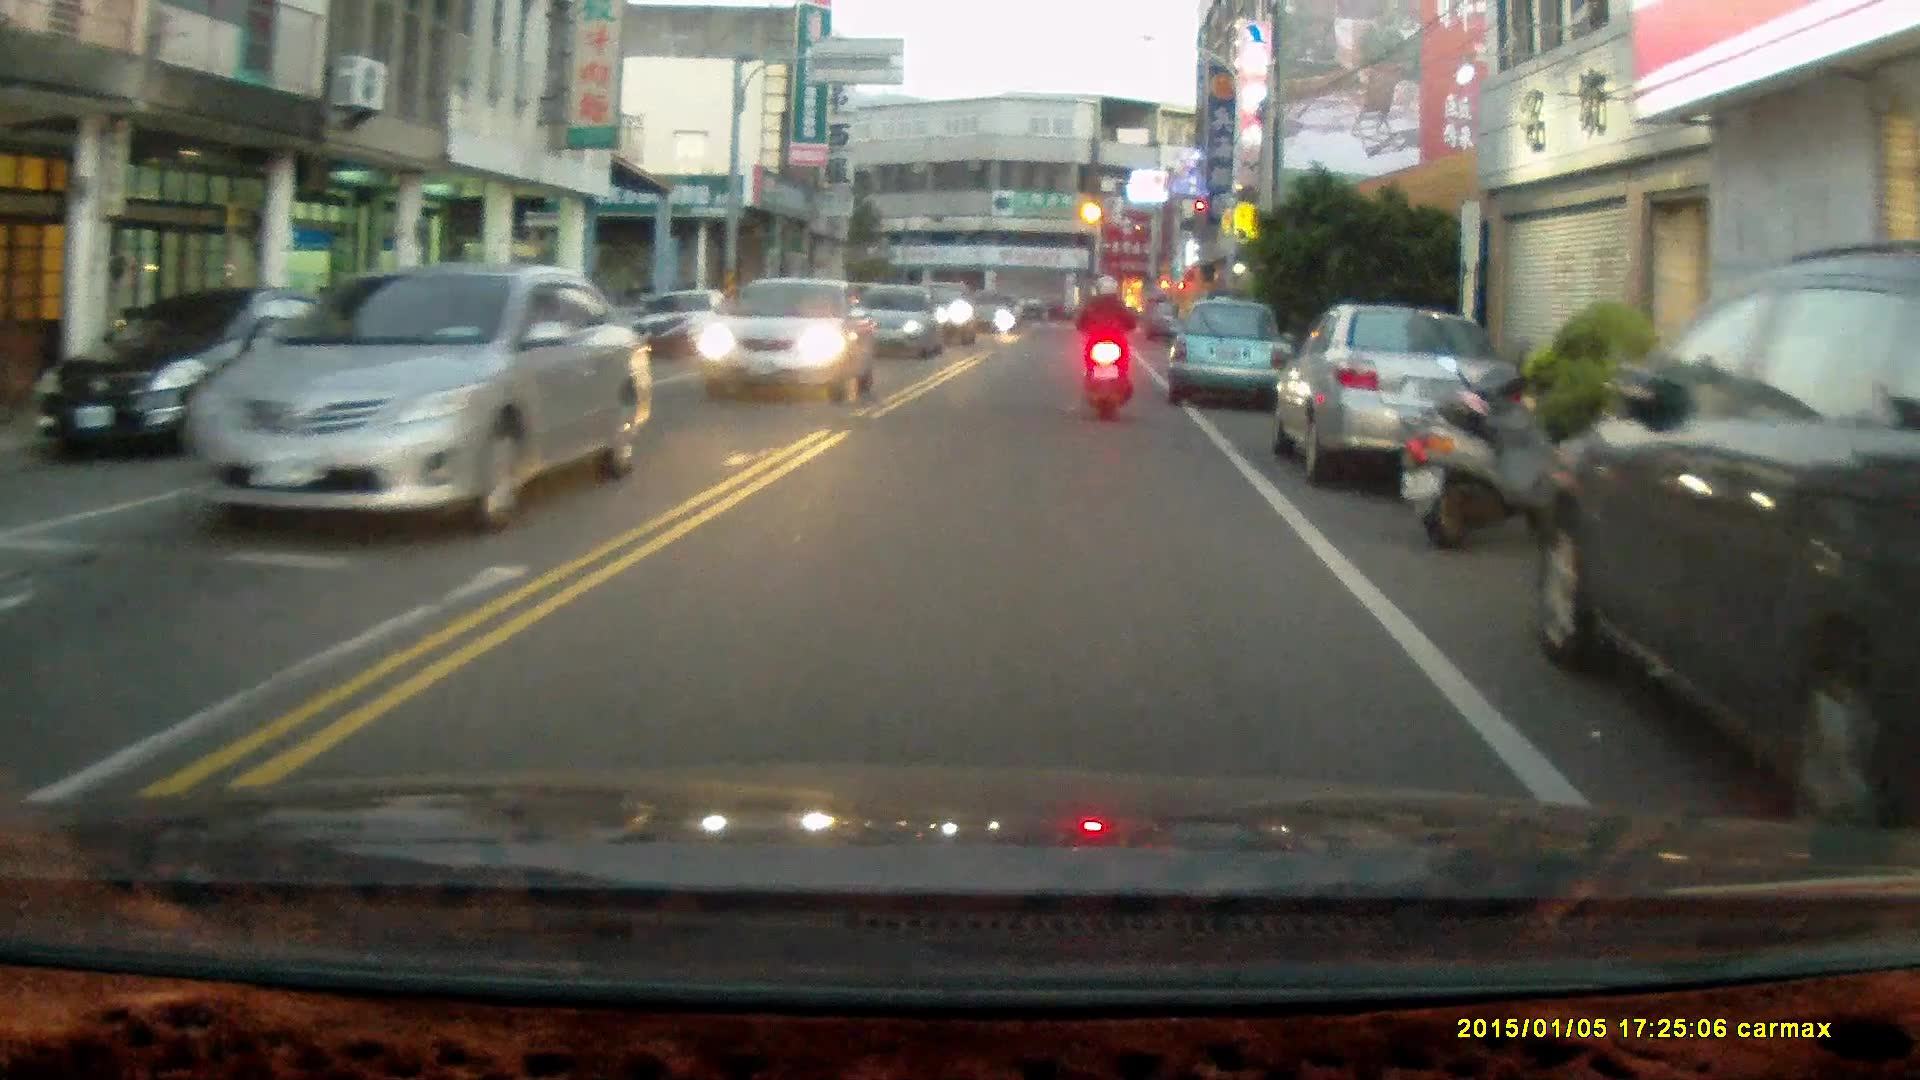rider: (1076, 271, 1135, 419)
vehicle: (1535, 238, 1920, 798), (180, 263, 657, 542), (29, 286, 406, 466), (1278, 291, 1511, 468), (693, 274, 877, 401), (1164, 297, 1294, 410), (841, 284, 947, 363)
